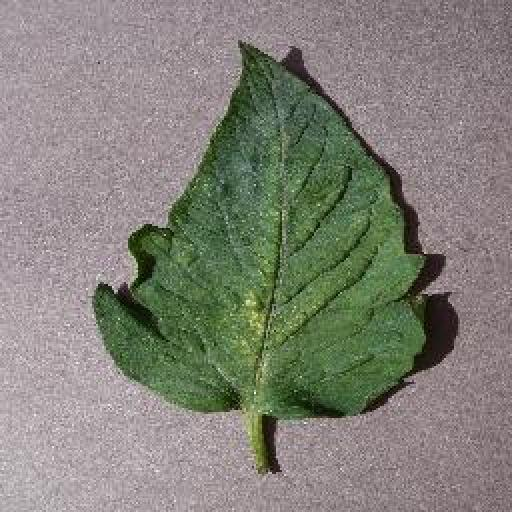disease_tomato: (93, 37, 427, 419)
